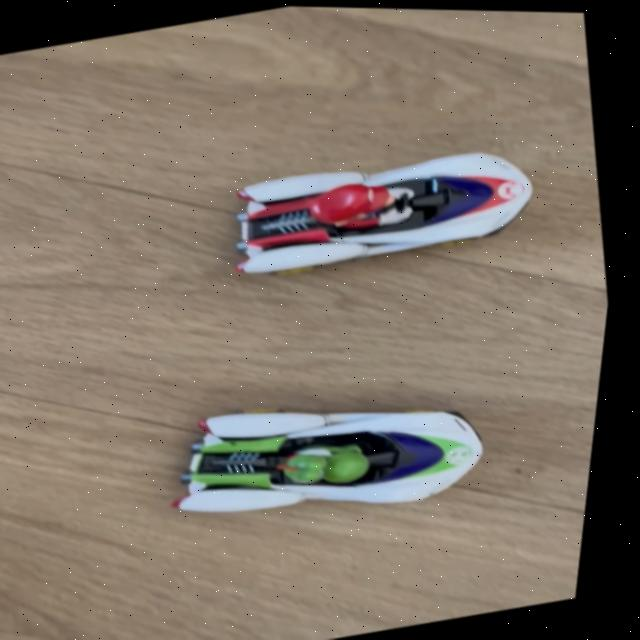mario: (194, 118, 571, 302)
yoshi: (155, 351, 538, 556)
